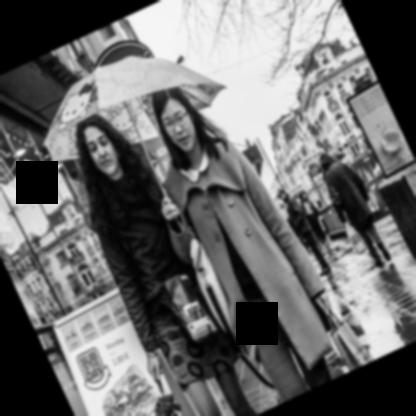backpack: (301, 199, 314, 219)
handbag: (190, 240, 277, 392), (163, 270, 219, 344), (327, 309, 375, 372)
